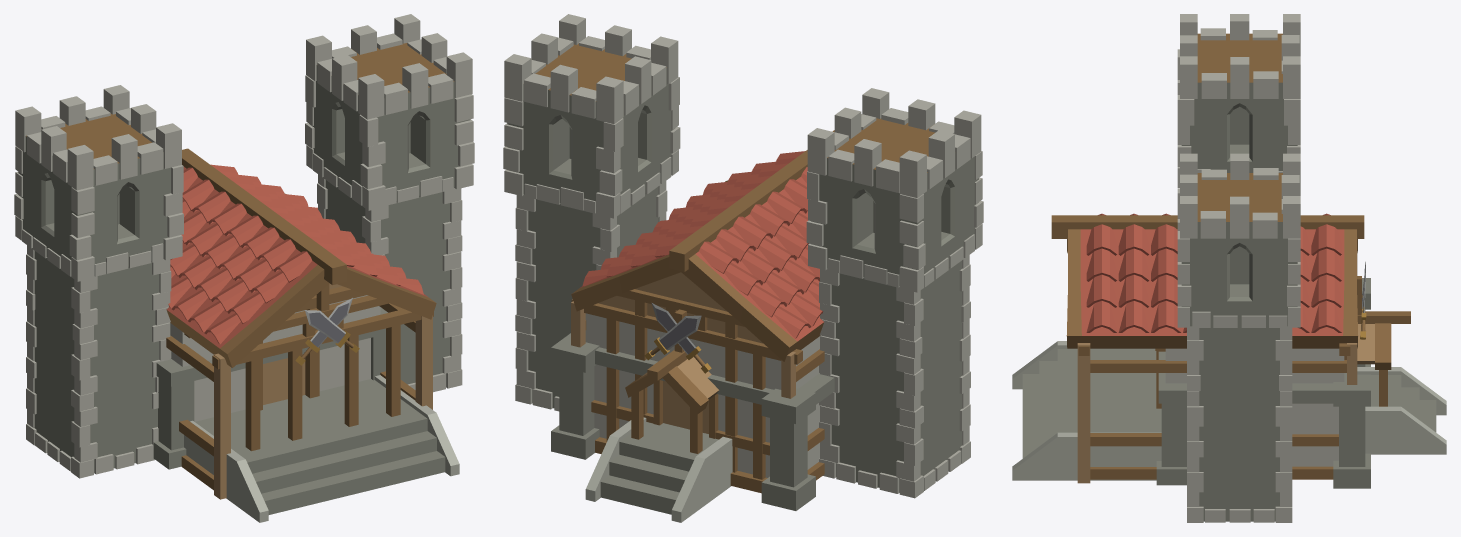
Rendered from Barracks_SecondAge_Level2.glb.
The picture shows the model from 3 angles, left to right: view 1: azimuth 30°, elevation 25°; view 2: azimuth 150°, elevation 25°; view 3: azimuth 270°, elevation 25°; orthographic projection. The views are drawn at different scales.
Visible parts, largest first — view 1: Barracks_SecondAge_Level2; view 2: Barracks_SecondAge_Level2; view 3: Barracks_SecondAge_Level2.
Part boxes in pixels (box(x1,y1,x2,y2)): Barracks_SecondAge_Level2: box(14, 14, 474, 522); Barracks_SecondAge_Level2: box(503, 14, 983, 522); Barracks_SecondAge_Level2: box(1012, 14, 1446, 522).
Size of the model in its own units: 1.71 by 1.35 by 1.64.
1 material, 1 textured.
